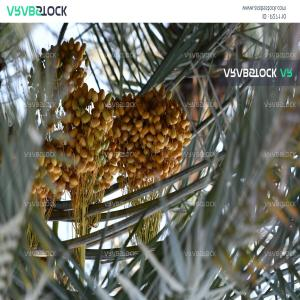palm tree: (1, 22, 299, 300)
